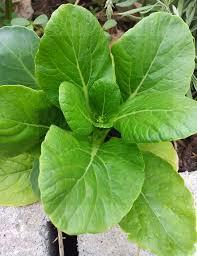Healthy-Pechay: (9, 17, 191, 224)
